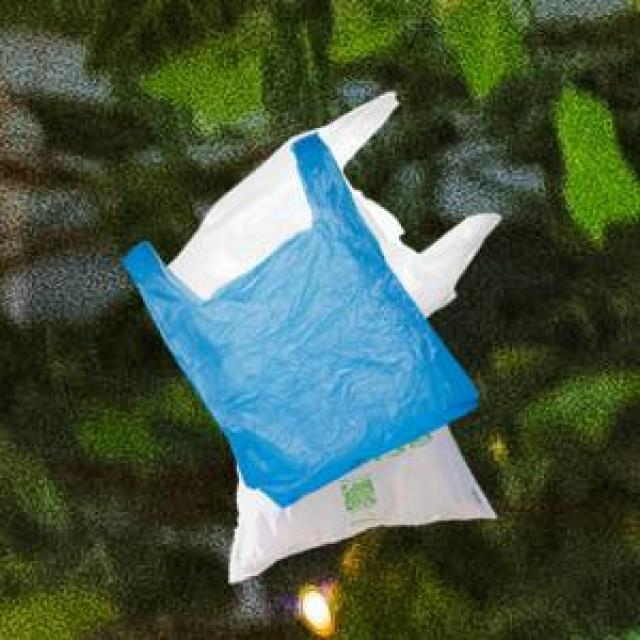waste: (124, 92, 500, 516)
